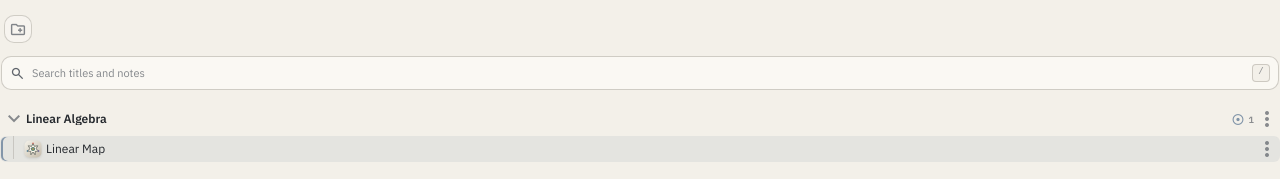
Test: ExplorerTree › keeps only the folder selected when a folder row is clicked
Click the button "Linear Algebra 1".
click(66, 118)  # box 0,104 -> 1279,134
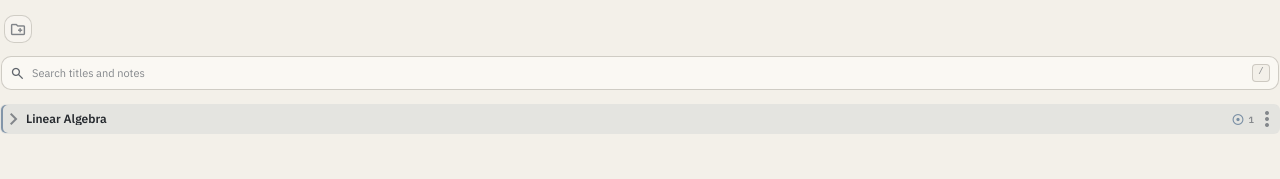
Result: the text "Linear Map" is gone
Click the button "Linear Algebra 1".
click(66, 118)  # box 0,104 -> 1279,134
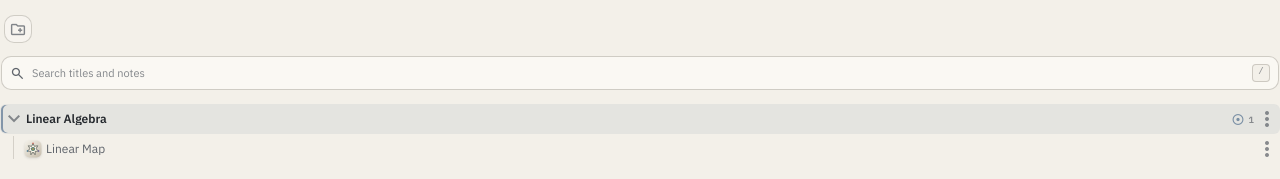
Result: the text "Linear Map" is shown at 46,141 -> 105,156
